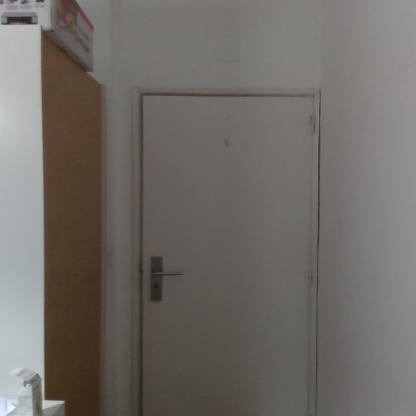door: (142, 95, 310, 415)
hinged: (306, 264, 315, 289), (308, 112, 318, 134), (304, 410, 314, 416)
lever: (148, 267, 188, 277)
